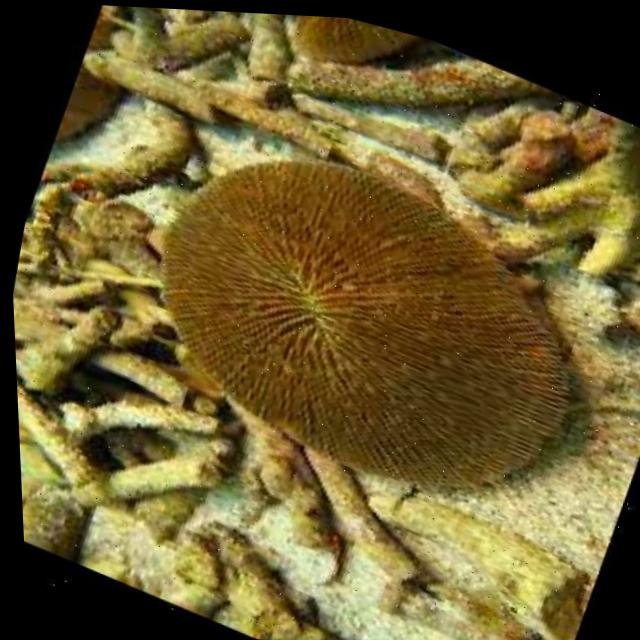Healthy Coral: (93, 86, 640, 552)
